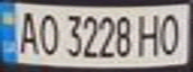2: (78, 11, 100, 60), (97, 11, 118, 60)
3: (60, 10, 84, 58)
8: (115, 11, 136, 58)
A: (12, 8, 42, 55)
H: (136, 10, 163, 57)
O: (157, 9, 187, 57), (33, 9, 60, 57)
